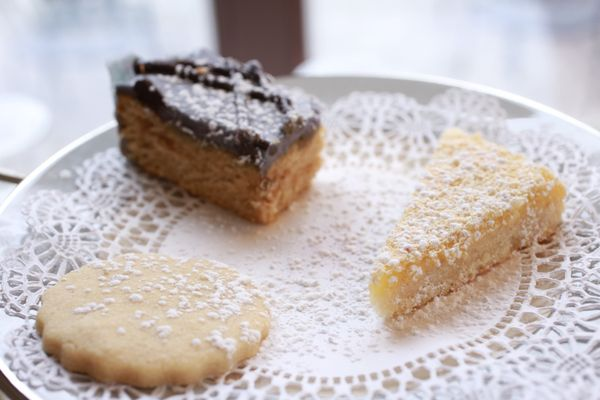sushi: (371, 126, 568, 334), (115, 52, 328, 224), (35, 251, 270, 389)
